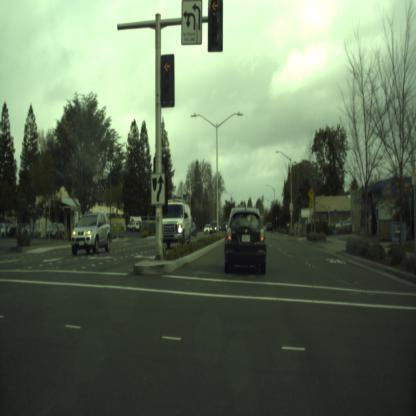RedLeft: (208, 0, 222, 51), (161, 55, 173, 106)
